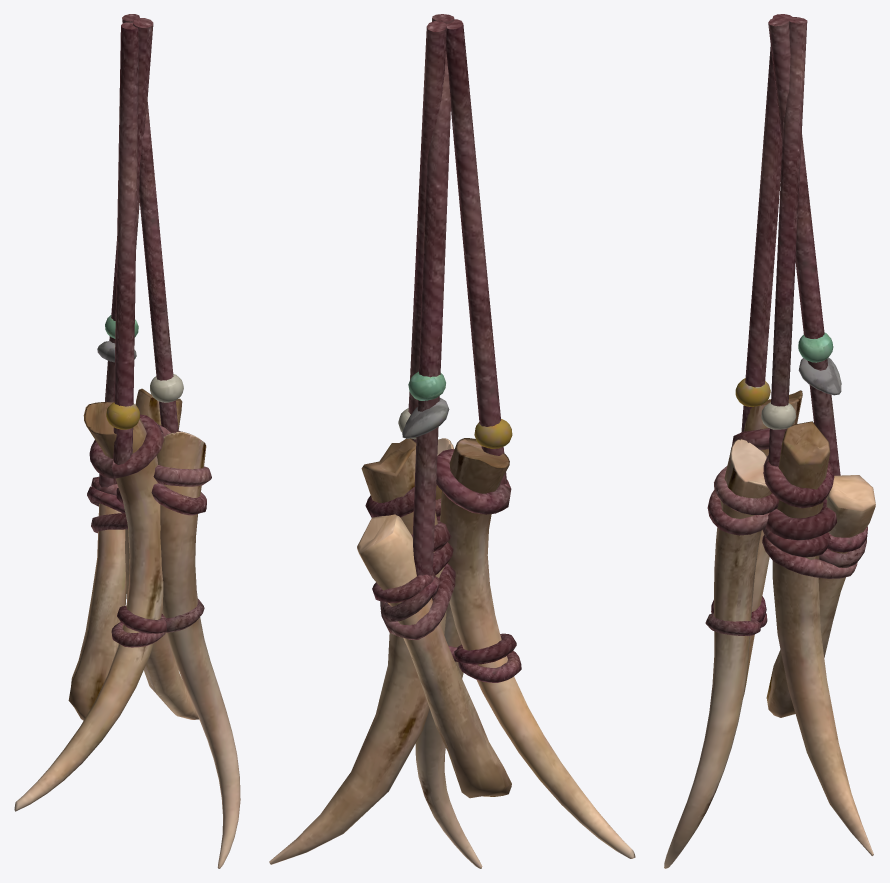
The picture shows the model from 3 angles, left to right: view 1: azimuth 30°, elevation 25°; view 2: azimuth 150°, elevation 25°; view 3: azimuth 270°, elevation 25°; orthographic projection. The views are drawn at different scales.
Parts seen in each view (by area): view 1: SM_Dec_Garou_Set_SM_Hanging_Ornament_01_LOD0; view 2: SM_Dec_Garou_Set_SM_Hanging_Ornament_01_LOD0; view 3: SM_Dec_Garou_Set_SM_Hanging_Ornament_01_LOD0.
Boxes of the visible parts, box(x1,y1,x2,y2) form: SM_Dec_Garou_Set_SM_Hanging_Ornament_01_LOD0: box(14, 14, 240, 868); SM_Dec_Garou_Set_SM_Hanging_Ornament_01_LOD0: box(269, 14, 635, 868); SM_Dec_Garou_Set_SM_Hanging_Ornament_01_LOD0: box(664, 14, 875, 868).
Size of the model in its own units: 0.3148 by 0.9332 by 0.2139.
Materials: 1 (1 with a texture image).
